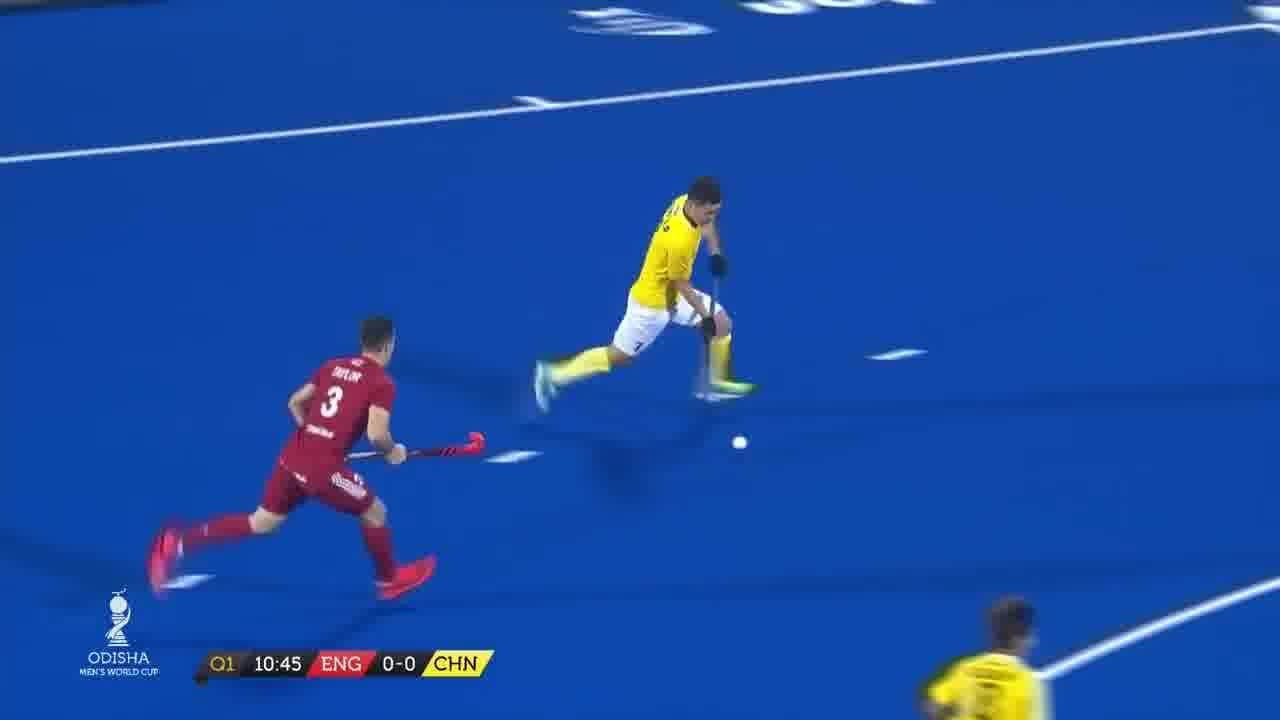ball: (734, 432, 752, 456)
